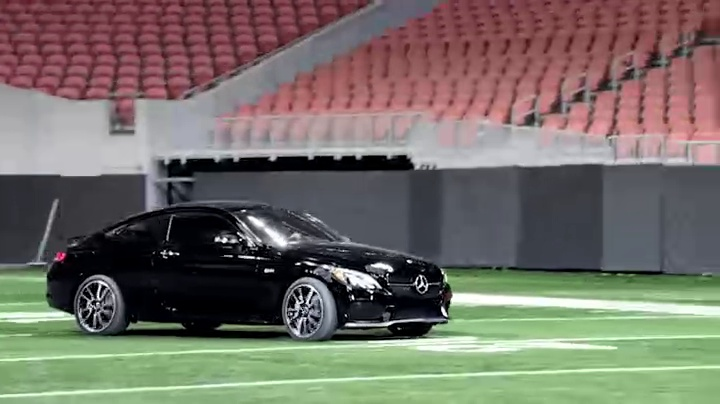amg: (42, 195, 454, 341)
